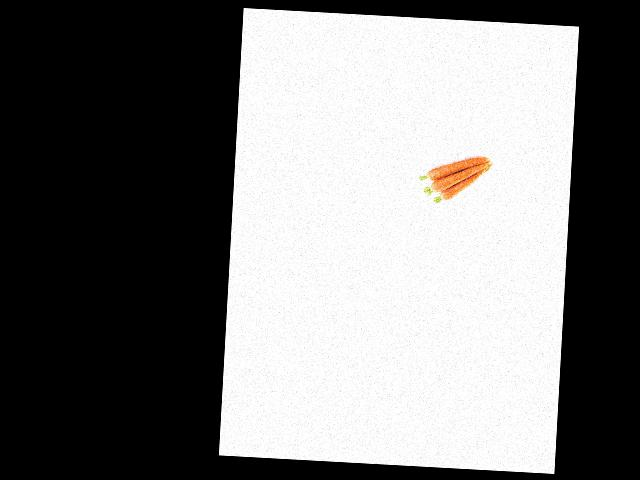carrot: (415, 142, 484, 183)
